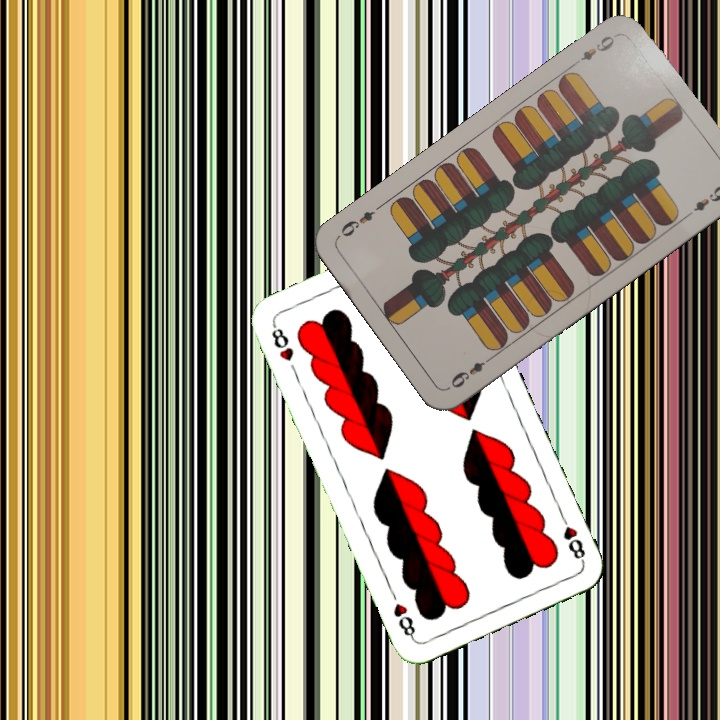E9: (446, 352, 496, 391), (569, 31, 618, 69)
H8: (556, 510, 588, 566), (267, 320, 296, 364)
